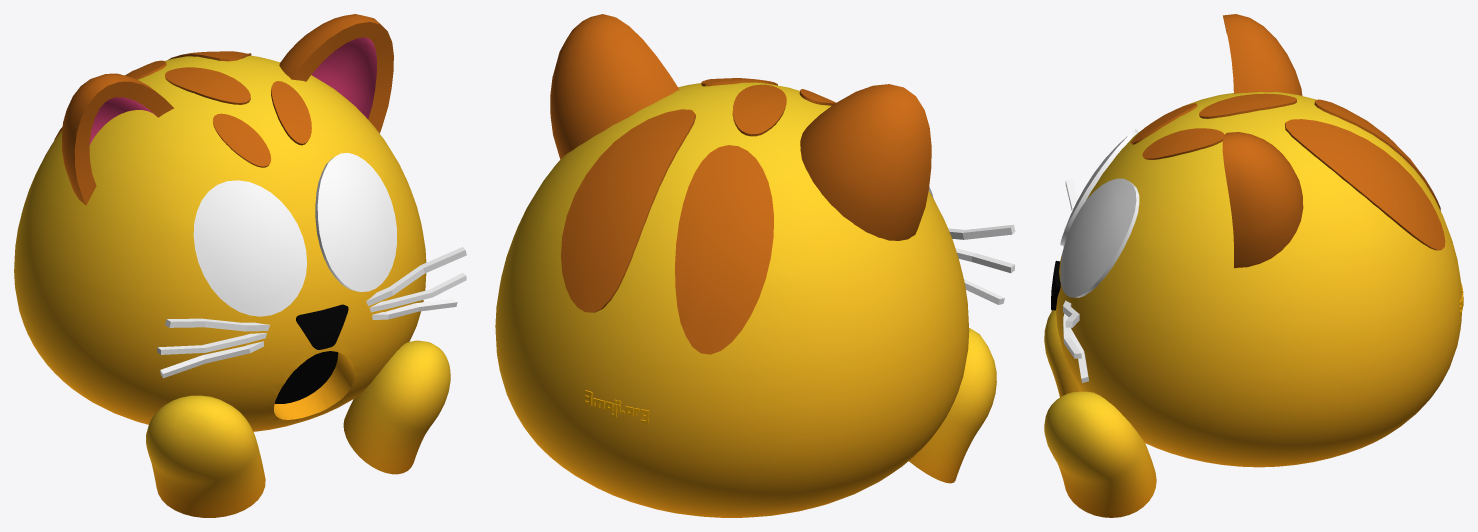
File: weary_cat.glb
3 renders of one model, left to right at view 1: azimuth 30°, elevation 25°; view 2: azimuth 150°, elevation 25°; view 3: azimuth 270°, elevation 25°, orthographic. The views are drawn at different scales.
Visible parts, largest first — view 1: Weary Cat; view 2: Weary Cat; view 3: Weary Cat.
Part boxes in pixels (bbox=[...]): Weary Cat: bbox=[14, 14, 466, 517]; Weary Cat: bbox=[495, 14, 1015, 517]; Weary Cat: bbox=[1044, 14, 1463, 517].
Size of the model in its own units: 1.69 by 1.77 by 1.74.
1 material, 1 textured.
